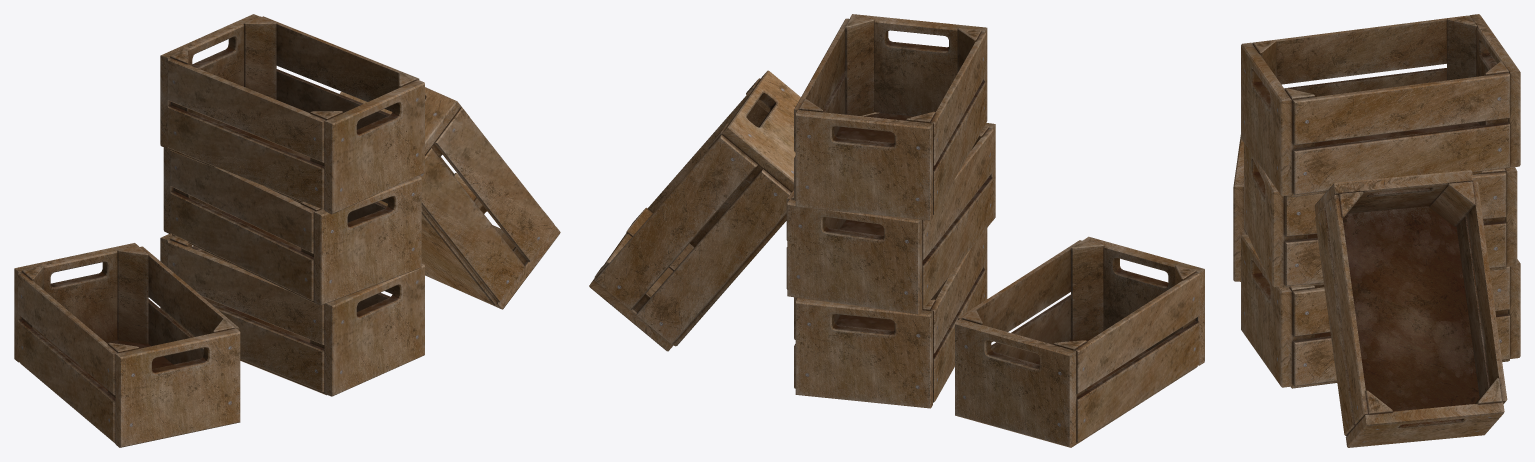
The model's file is boxes.glb.
The picture shows the model from 3 angles, left to right: view 1: azimuth 30°, elevation 25°; view 2: azimuth 150°, elevation 25°; view 3: azimuth 270°, elevation 25°; orthographic projection. The views are drawn at different scales.
Parts seen in each view (by area): view 1: Object_2; view 2: Object_2; view 3: Object_2.
Boxes of the visible parts, x1,y1,x2,y2 form: Object_2: (14, 14, 560, 447); Object_2: (589, 14, 1204, 447); Object_2: (1233, 14, 1520, 447).
Bounding box in the file's own units: 27.4 × 14.58 × 12.97.
Materials: 1 (1 with a texture image).
